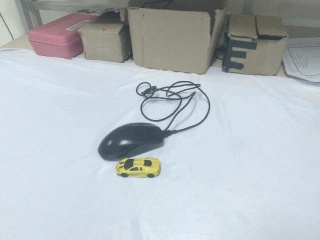box: (126, 1, 230, 75), (221, 14, 288, 76), (26, 10, 97, 59), (78, 11, 132, 63)
mouse: (98, 122, 166, 161)
toy_car: (115, 158, 160, 179)
